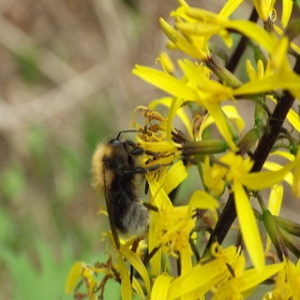bee: (91, 129, 175, 256)
